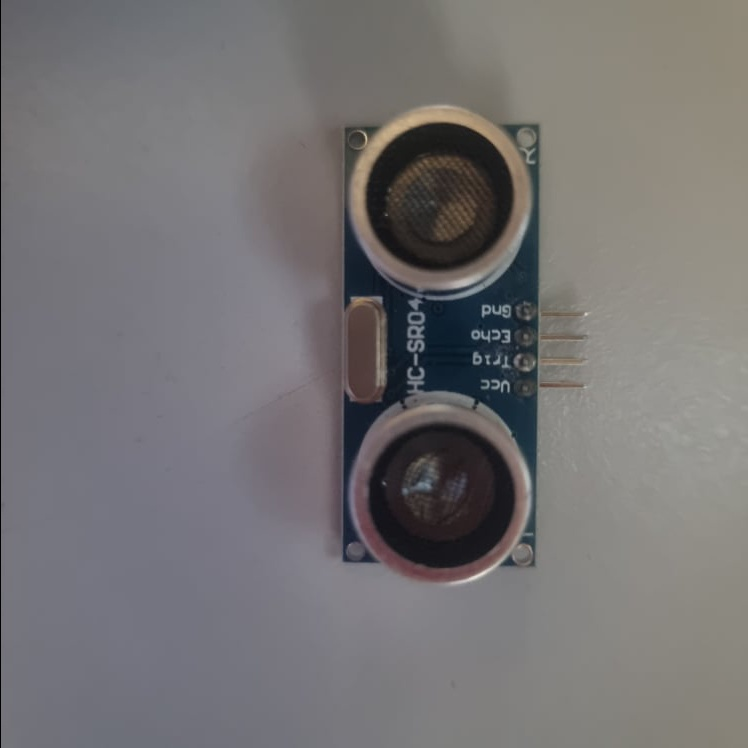SENSOR: (335, 103, 590, 591)
